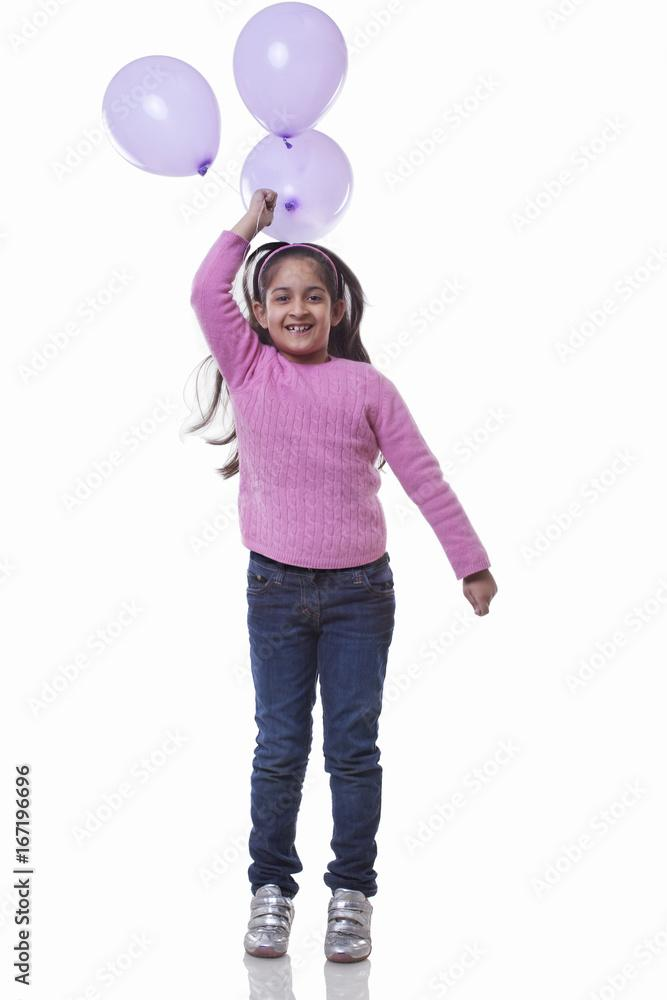Human: (154, 184, 499, 979)
